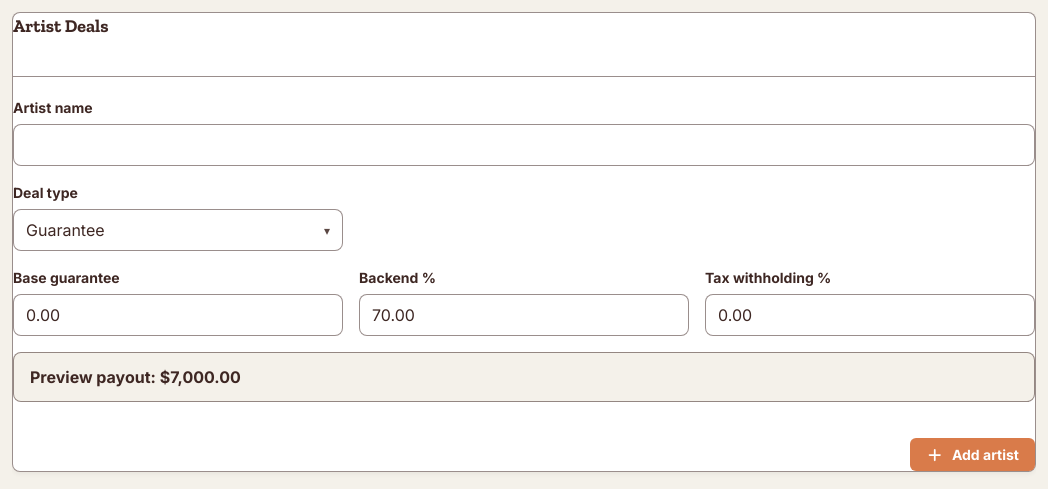
Test: ArtistDealPanel › updates payout preview when backend percent changes
The width and height of the screenshot is (1048, 489).
Expected: the element with test id "payout-preview" shows "$7,000.00", [160,367,241,387]
Step 1. Replace the text in the field with test id "backend-percent-input" with "50.00" → (524, 315), box [359,294,689,336]
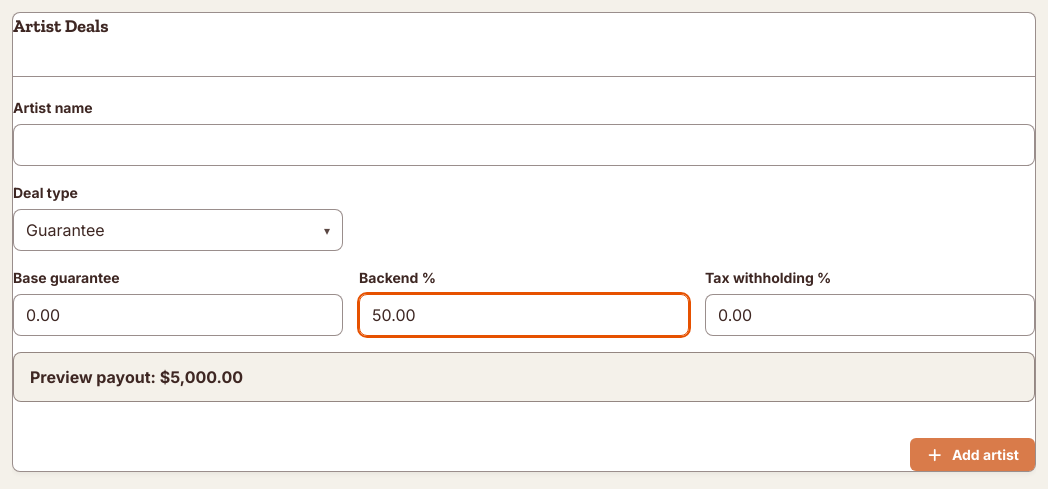
Result: the element with test id "payout-preview" shows "$5,000.00" at [160,367,243,387]
